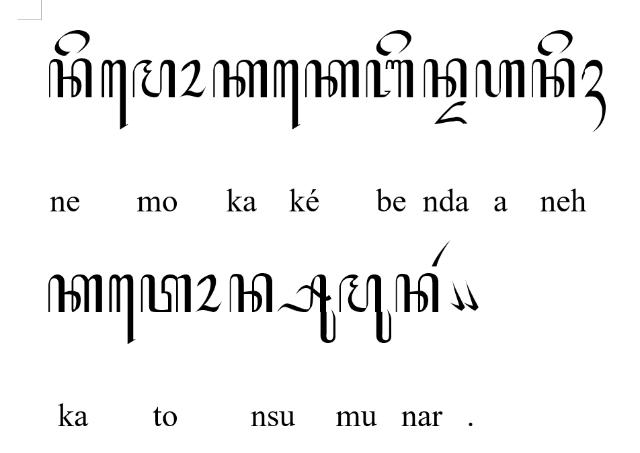_d: (433, 101, 467, 124)
_h1: (582, 60, 606, 132)
_r1: (432, 241, 451, 267)
_su: (276, 275, 336, 344)
b: (364, 58, 414, 98)
e: (54, 29, 90, 55), (376, 30, 412, 56), (537, 30, 573, 56)
e1: (108, 275, 136, 346), (100, 60, 128, 130), (273, 60, 301, 130)
h: (476, 60, 524, 98)
k: (212, 58, 268, 98), (48, 274, 102, 314), (304, 60, 360, 98)
kom: (463, 280, 479, 312), (449, 280, 465, 310)
m: (132, 59, 176, 99)
mu: (338, 274, 392, 344)
n: (394, 273, 440, 313), (48, 58, 92, 98), (423, 58, 467, 98), (531, 58, 575, 98), (229, 273, 273, 313)
o: (178, 60, 206, 98), (196, 274, 222, 312)
t: (140, 274, 192, 314)
